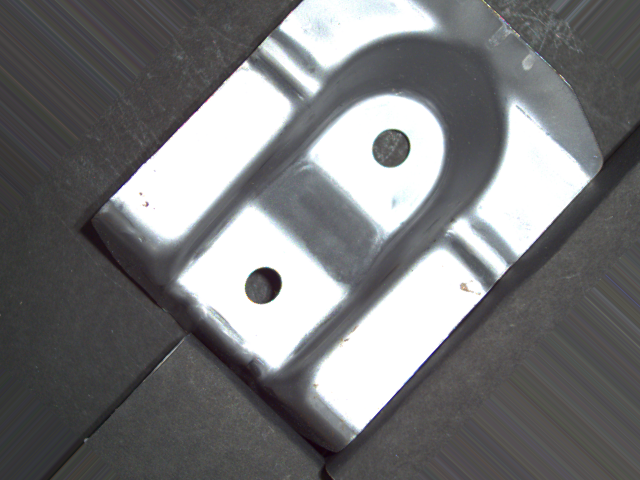defect: (368, 126, 415, 170)
